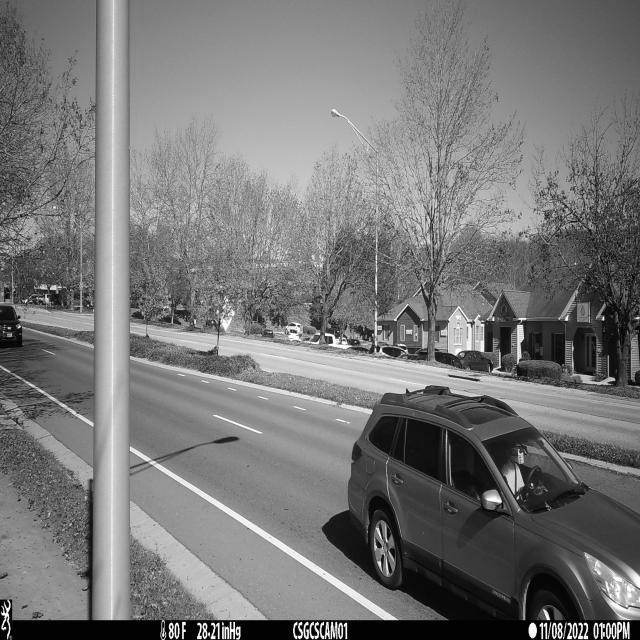SUV: (348, 387, 640, 622)
